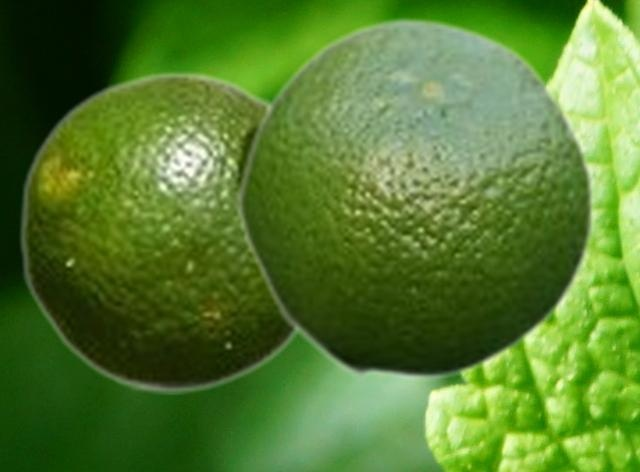calamansi: (234, 14, 596, 380), (17, 70, 301, 393)
